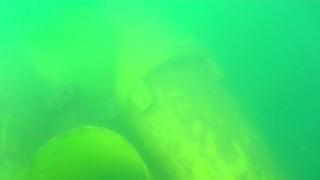pipe: (107, 38, 292, 180), (27, 126, 152, 180)
